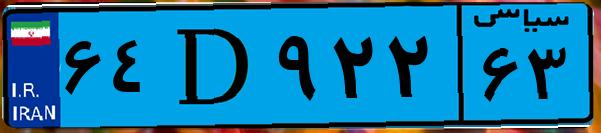2: (385, 28, 445, 110), (330, 28, 385, 110)
3: (525, 38, 570, 115)
4: (110, 28, 158, 98)
6: (57, 26, 110, 100), (475, 38, 525, 113)
9: (270, 28, 330, 110)
D: (158, 12, 270, 120)
